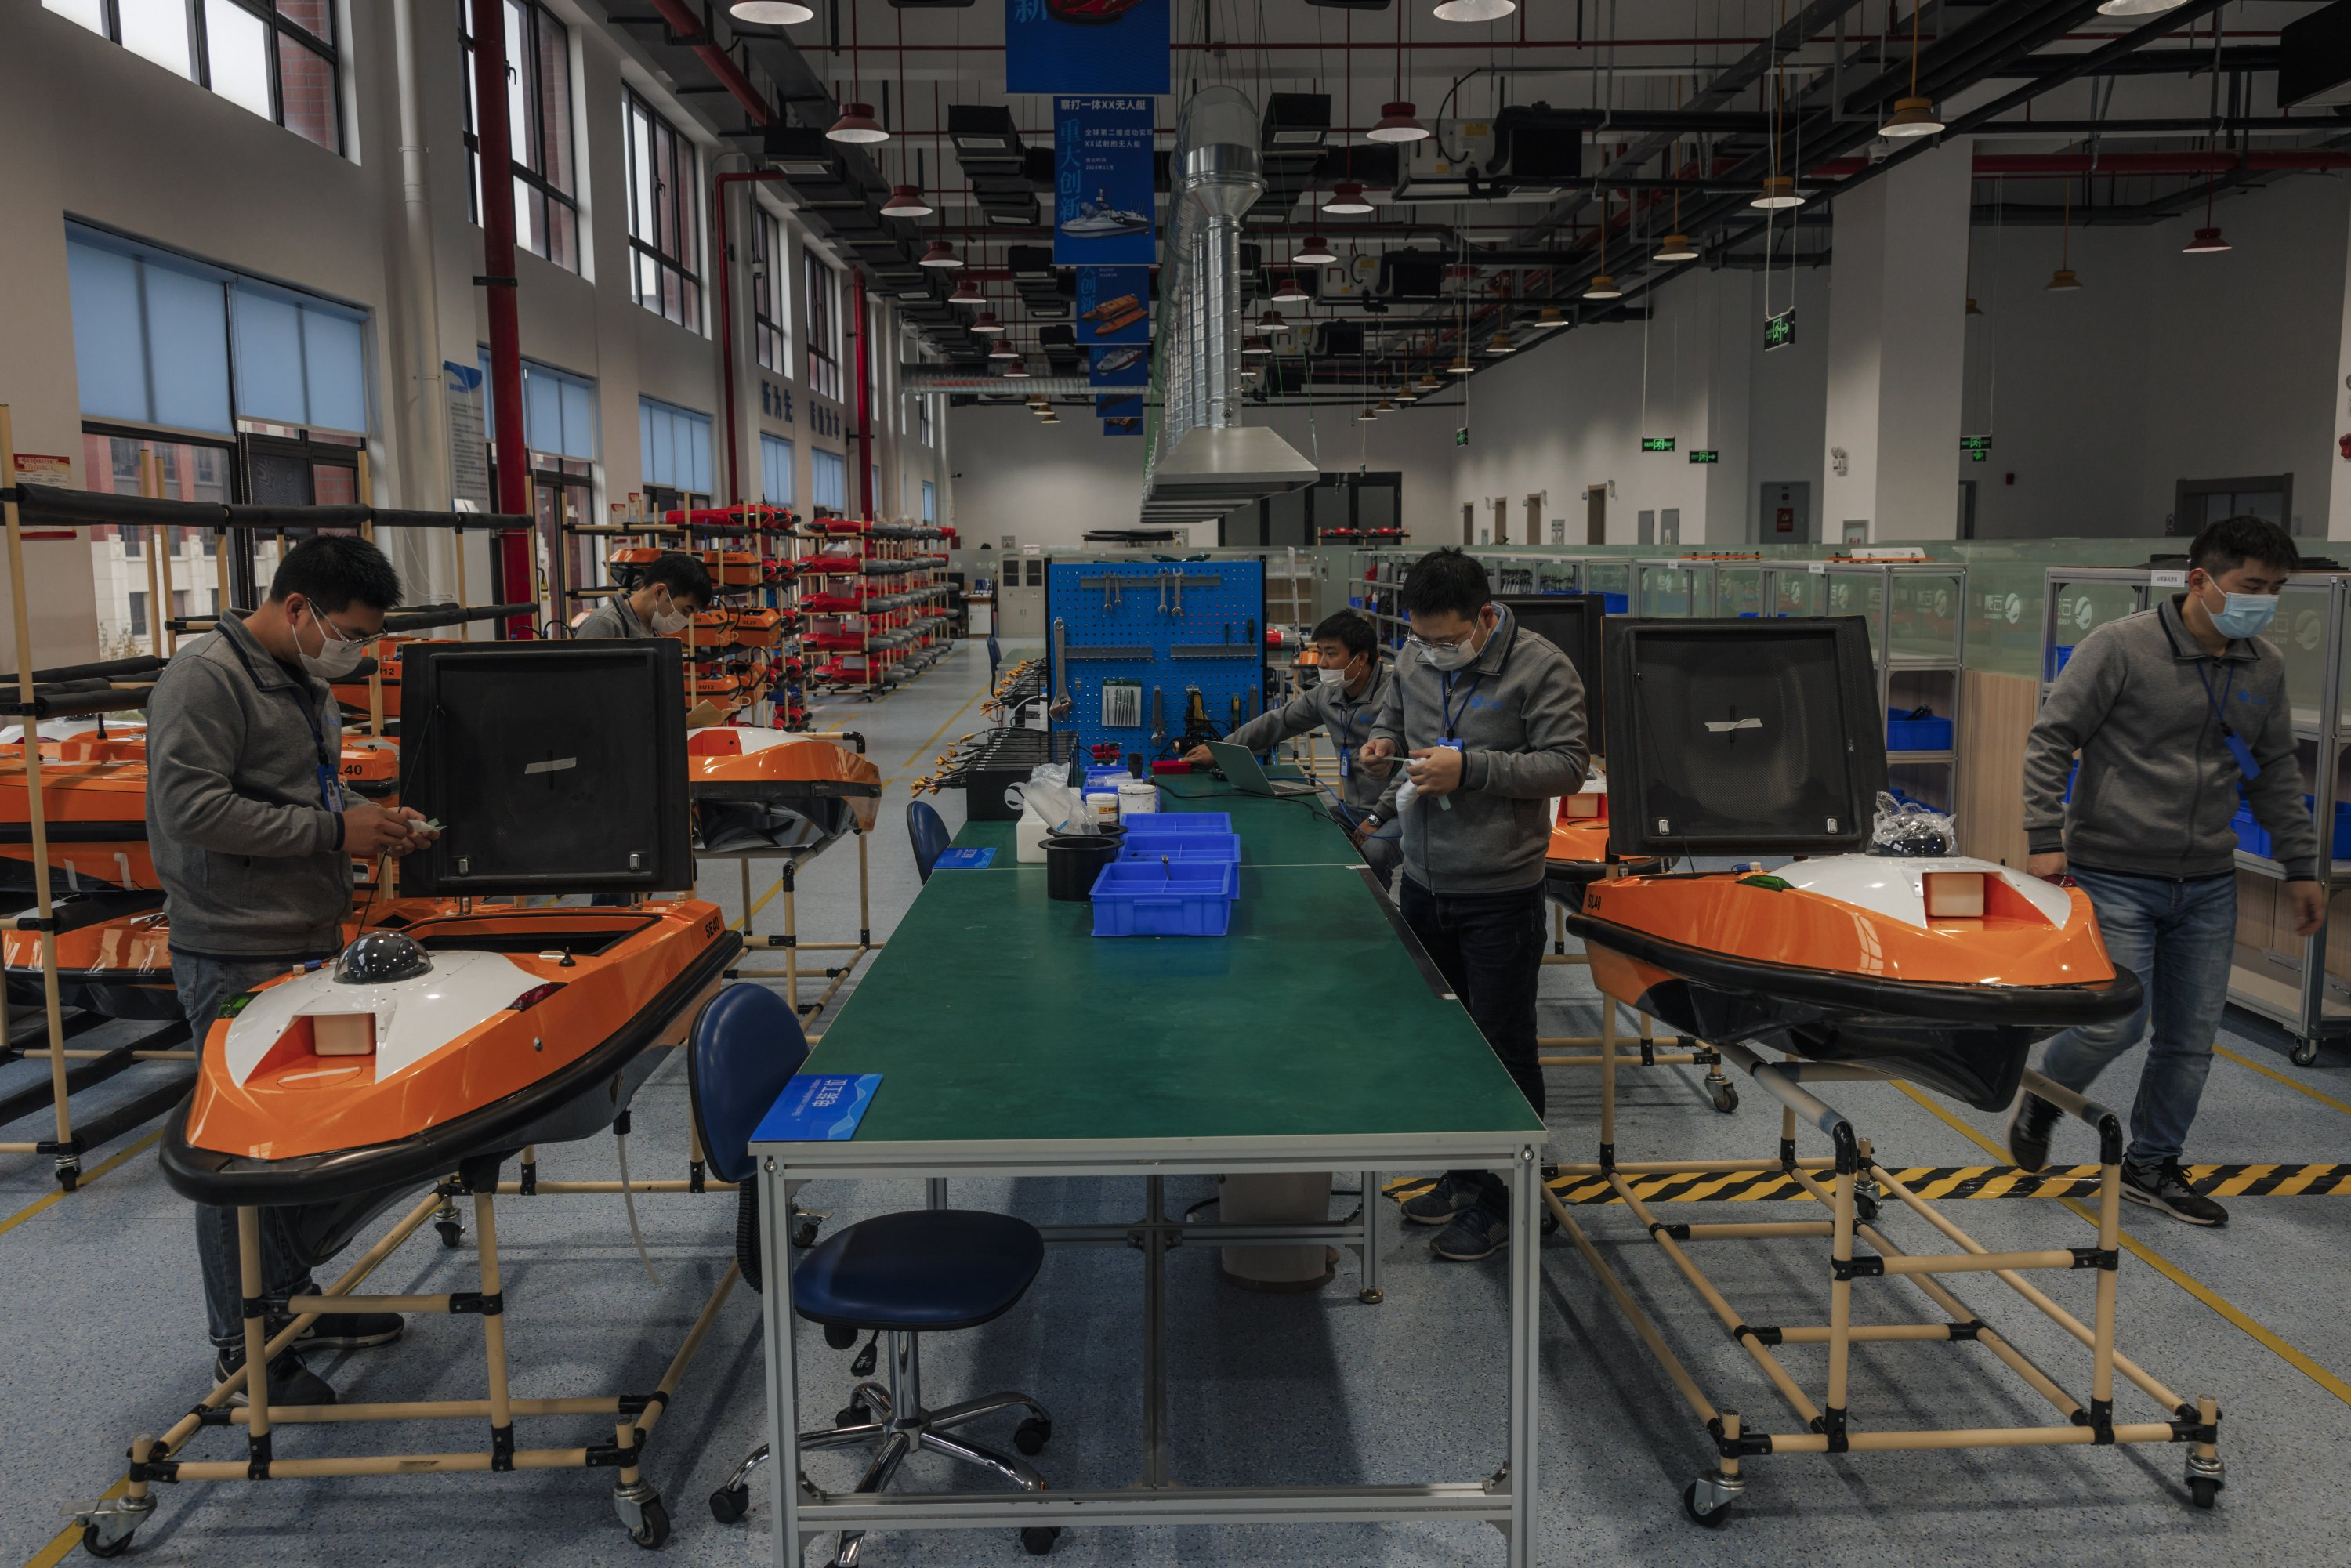person: (143, 534, 445, 1418), (2015, 515, 2328, 1231), (1360, 559, 1598, 1265), (1181, 607, 1405, 889), (568, 559, 716, 677)
